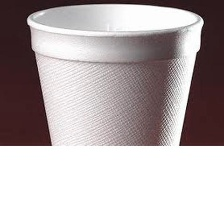paper_cup: (21, 0, 207, 145)
